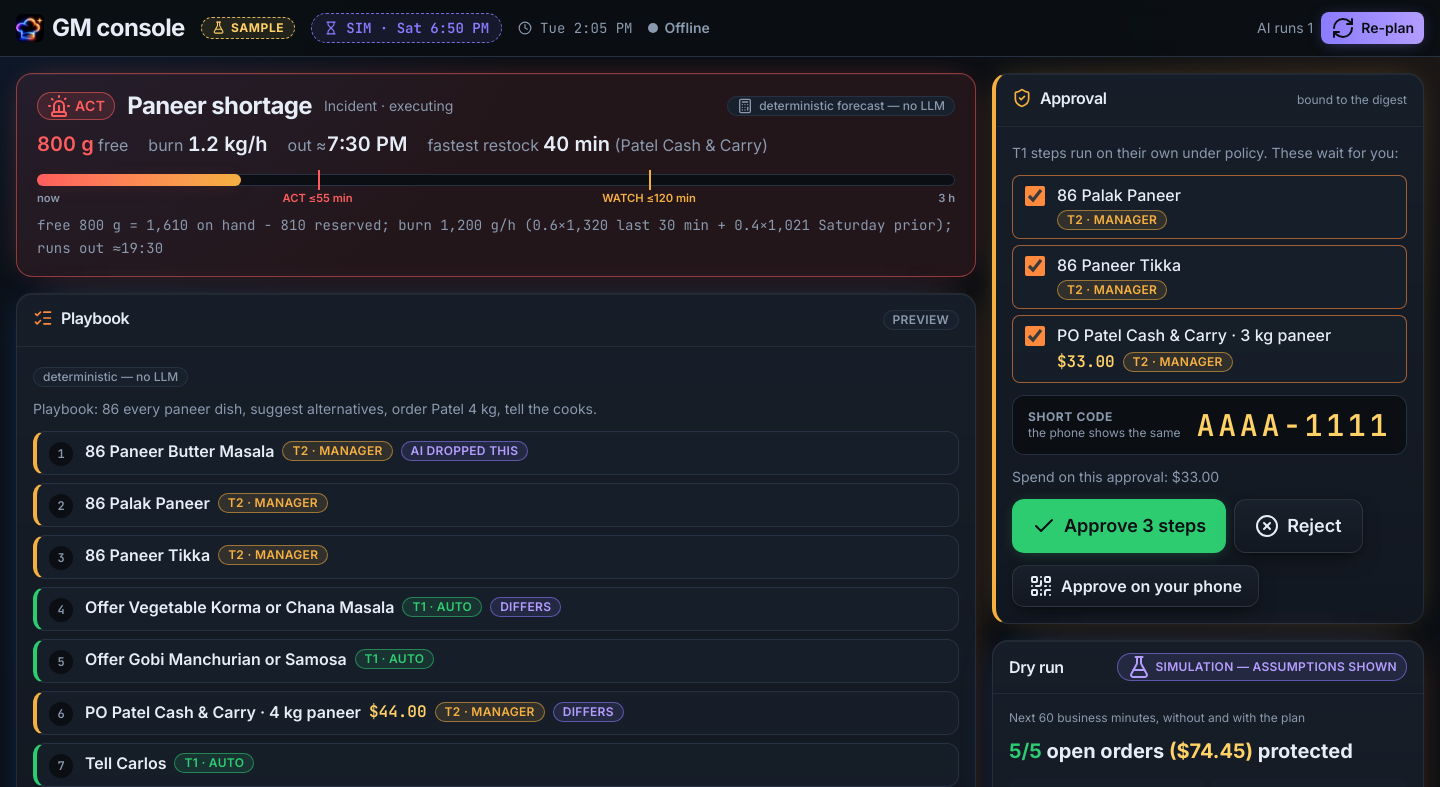
Test case: digest_mismatch_previews_again
The width and height of the screenshot is (1440, 787).
What coordinates should you click on to do the following:
click the button "Approve 3 steps"
I would click on:
 (1119, 526)
Its box is left=1012, top=499, right=1226, bottom=553.
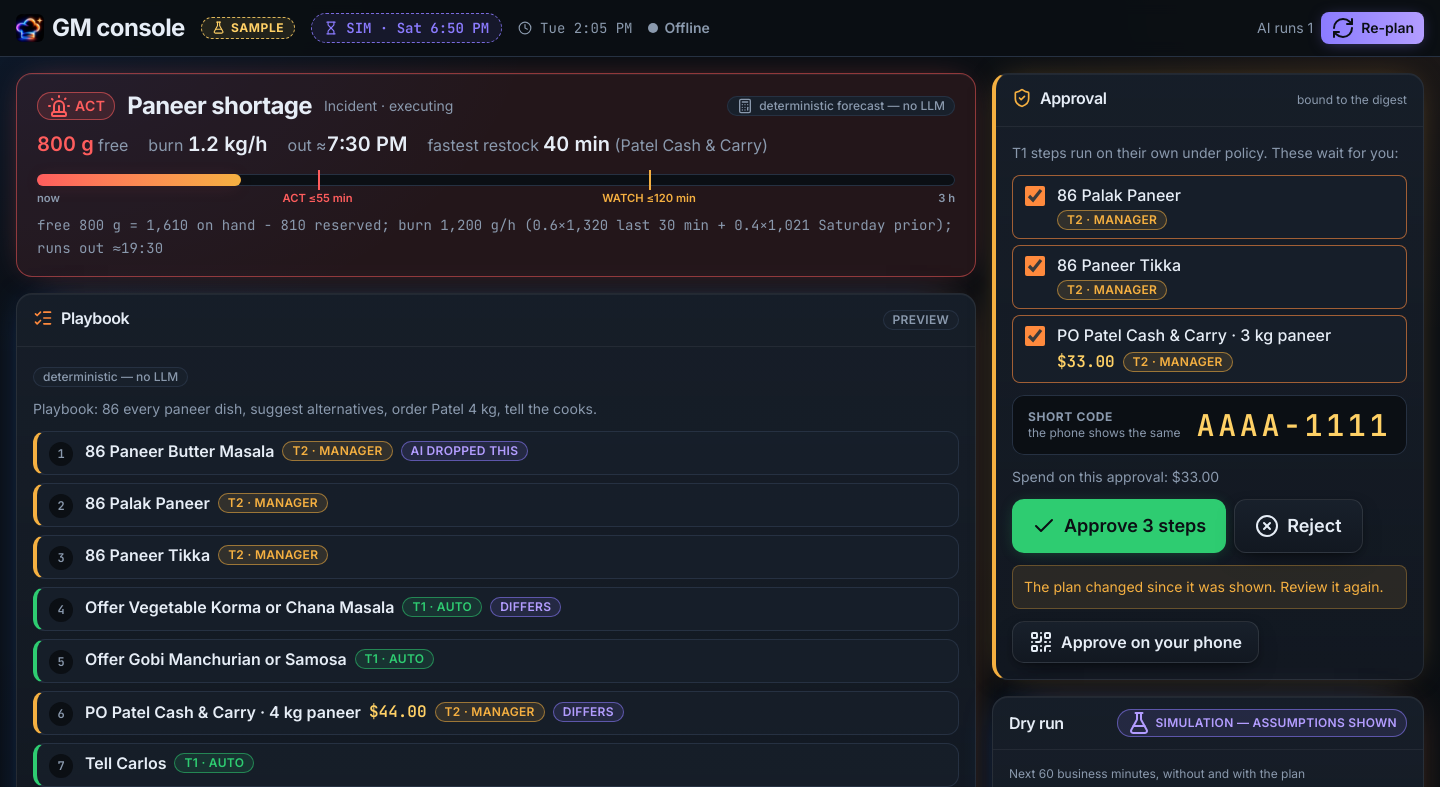
Expected: the message shows "The plan changed since it was shown", left=1024, top=578, right=1384, bottom=595
